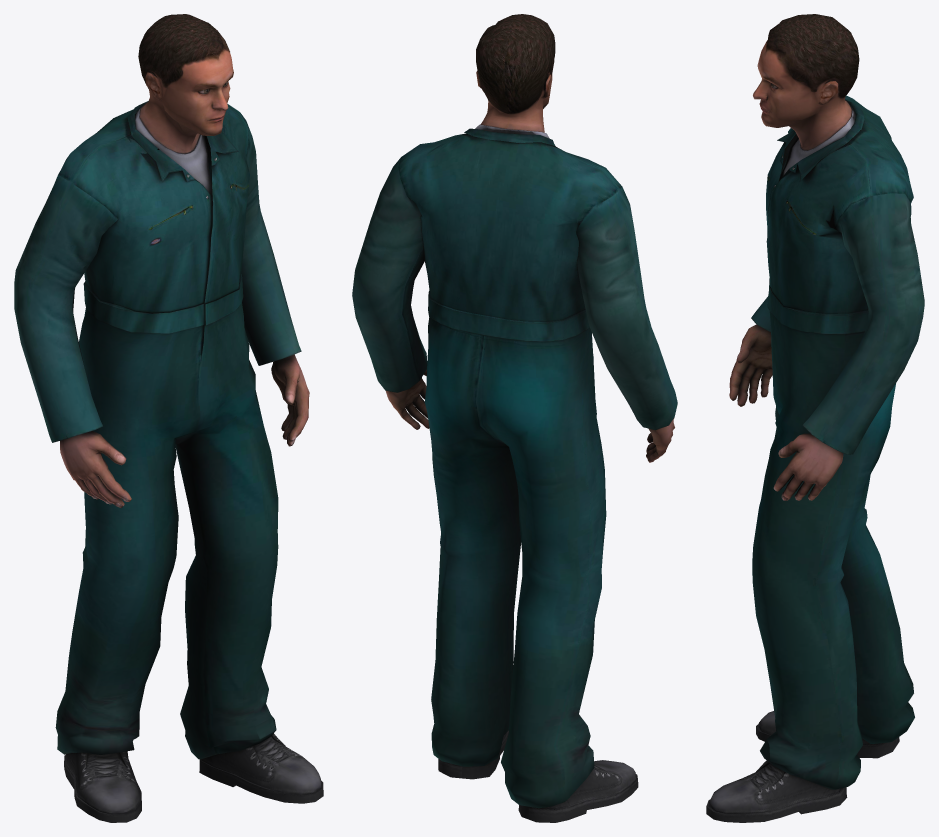
File: SWRK01_03_01.FBX
3 views of the same model, side by side, from view 1: azimuth 30°, elevation 25°; view 2: azimuth 150°, elevation 25°; view 3: azimuth 270°, elevation 25° (orthographic).
Visible parts, largest first — view 1: SWRK01_03_01; view 2: SWRK01_03_01; view 3: SWRK01_03_01.
Part boxes in pixels (x1,y1,x2,y2): SWRK01_03_01: (14,14,323,822); SWRK01_03_01: (352,14,677,822); SWRK01_03_01: (706,14,924,822).
Size of the model in its own units: 25.85 by 68.96 by 18.03.
Materials: 1 (1 with a texture image).
